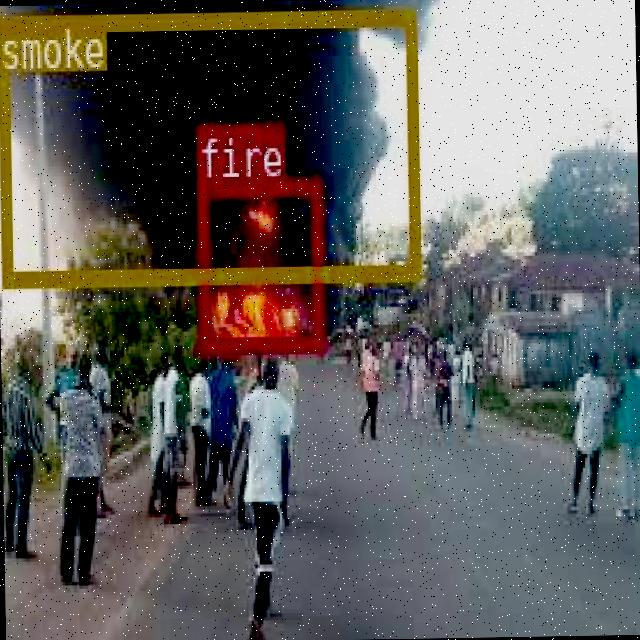fire: (195, 176, 321, 350)
smoke: (0, 8, 418, 283)
